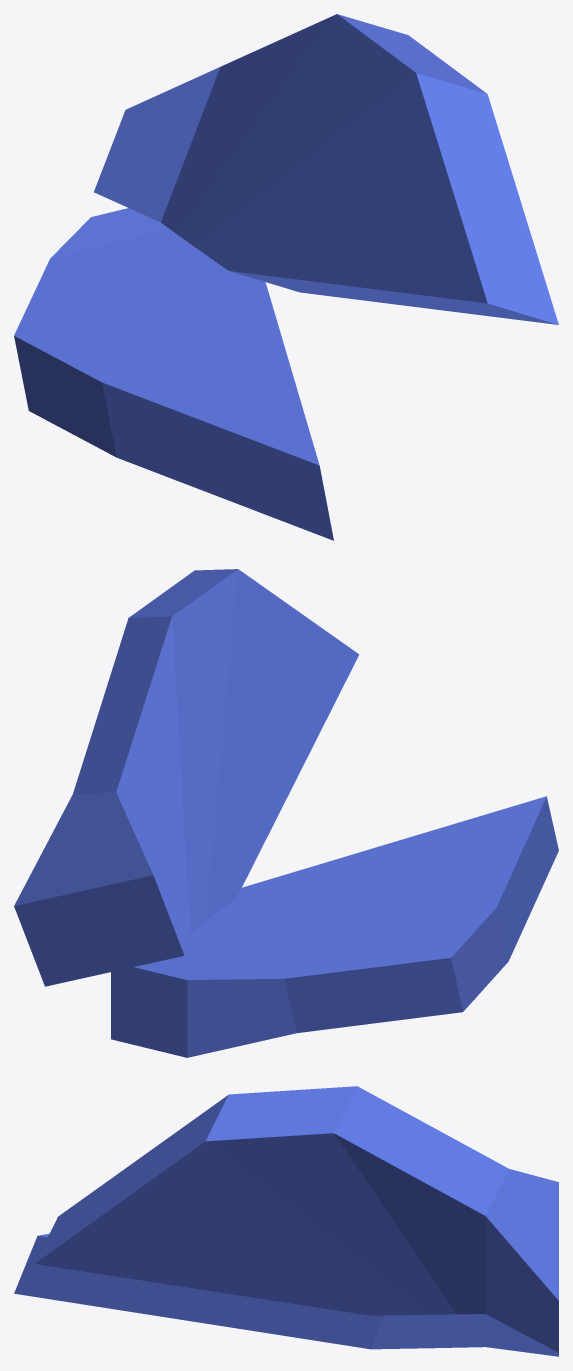
The model's file is koifishTail.glb.
3 renders of one model, top to bottom at view 1: azimuth 30°, elevation 25°; view 2: azimuth 150°, elevation 25°; view 3: azimuth 270°, elevation 25°, orthographic. The views are drawn at different scales.
Visible parts, largest first — view 1: Tail; view 2: Tail; view 3: Tail.
Part boxes in pixels (<box>): Tail: <box>14,14,558,540</box>; Tail: <box>14,569,558,1057</box>; Tail: <box>14,1086,558,1356</box>.
Bounding box in the file's own units: 5.12 × 4.45 × 7.51.
